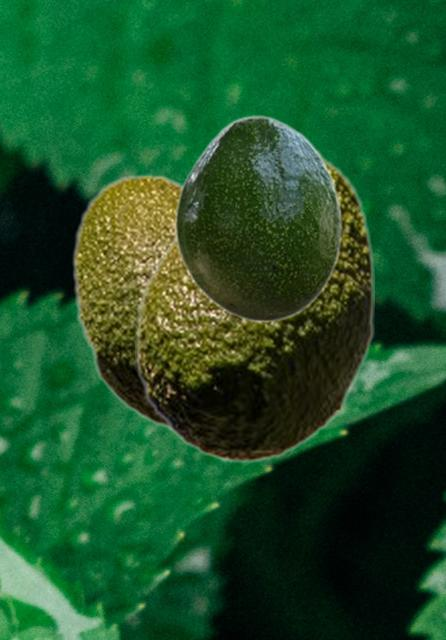avocado: (135, 144, 373, 463), (174, 115, 341, 322), (71, 173, 182, 434)
